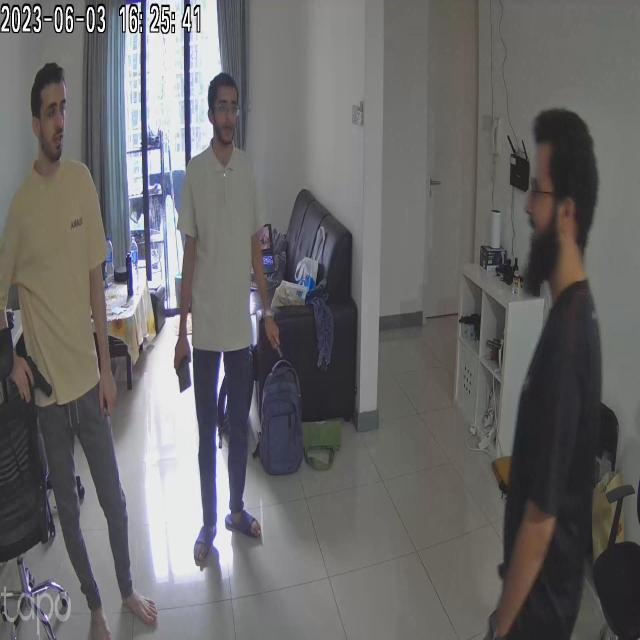Gun: (4, 352, 70, 418)
